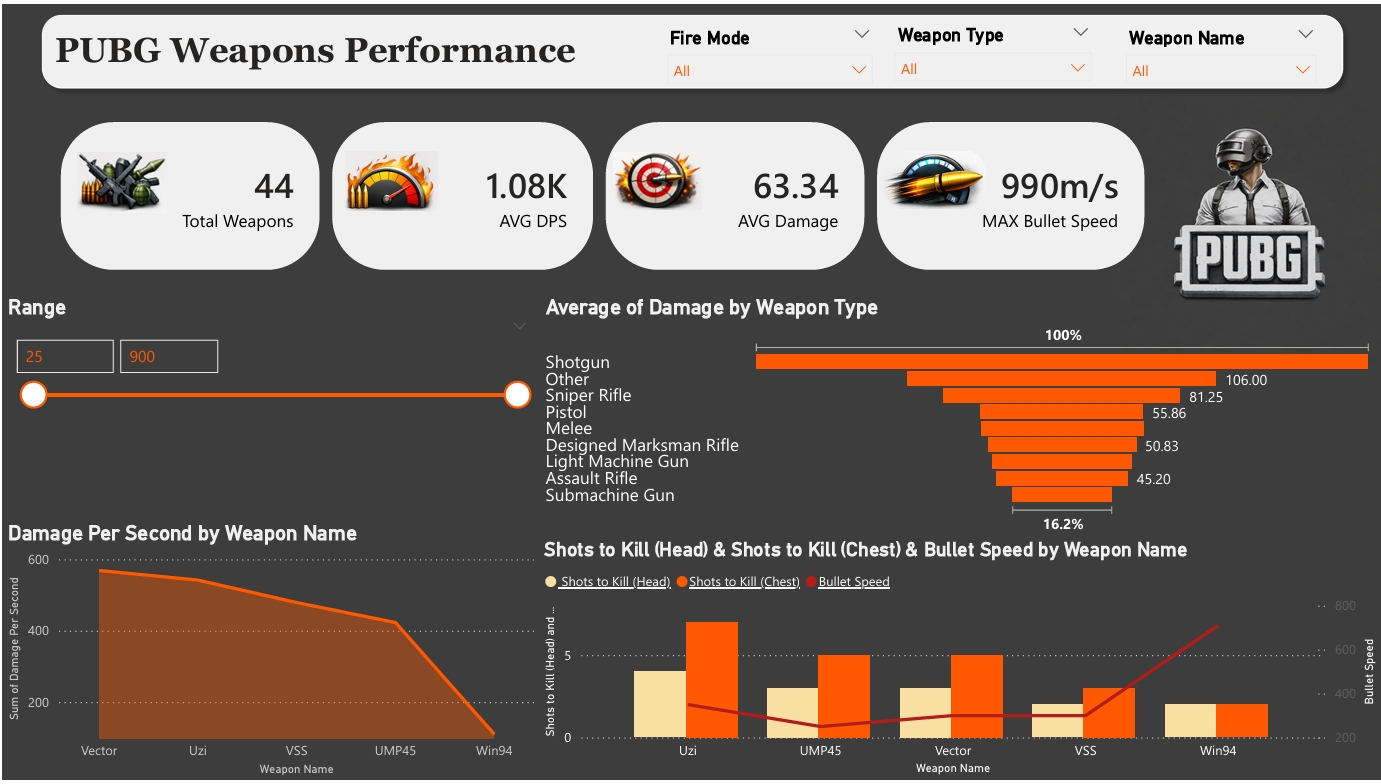

Layout of this report page (visuals, bound fields, positions):
{"tool":"powerbi","page":{"name":"PUBG","canvas":[1280,720],"ordinal":0},"visuals":[{"type":"image","box":[1032.8,71.6,247.8,270.1],"z":0},{"type":"cardVisual","fields":{"Data":["pubg-weapon-stats.Bullet Speed 1"]},"box":[806,103,259.7,149.3],"z":1000},{"type":"shape","box":[26.9,0,1226.9,86.6],"z":2000},{"type":"cardVisual","fields":{"Data":["CountNonNull(pubg-weapon-stats.Weapon Name)"]},"box":[47.8,103,252.2,149.3],"z":3000},{"type":"stackedAreaChart","title":" Damage Per Second by Weapon Name","fields":{"Category":["pubg-weapon-stats.Weapon Name"],"Y":["Sum(pubg-weapon-stats.Damage Per Second)"]},"box":[0,478.9,498.1,241.5],"z":4000},{"type":"lineClusteredColumnComboChart","title":"Shots to Kill (Head)  & Shots to Kill (Chest) &  Bullet Speed by Weapon Name","fields":{"Category":["pubg-weapon-stats.Weapon Name"],"Y":["Sum(pubg-weapon-stats.Shots to Kill (Head))","Sum(pubg-weapon-stats.Shots to Kill (Chest))"],"Y2":["Sum(pubg-weapon-stats.Bullet Speed)"]},"box":[498.1,495.4,782.2,225],"z":5000},{"type":"cardVisual","fields":{"Data":["Avg(pubg-weapon-stats.Damage)"]},"box":[553.7,103,252.2,149.3],"z":6000},{"type":"slicer","fields":{"Values":["pubg-weapon-stats.Weapon Type"]},"box":[817.9,13.4,203,58.2],"z":7000},{"type":"cardVisual","fields":{"Data":["Max(pubg-weapon-stats.Damage Per Second)"]},"box":[300,103,253.7,149.3],"z":8000},{"type":"slicer","fields":{"Values":["pubg-weapon-stats.Fire Mode"]},"box":[607.5,14.9,210.4,56.7],"z":9000},{"type":"slicer","title":"Range","fields":{"Values":["pubg-weapon-stats.Range"]},"box":[0,268.7,498.5,197],"z":10000},{"type":"slicer","fields":{"Values":["pubg-weapon-stats.Weapon Name"]},"box":[1032.8,14.9,197,56.7],"z":11000},{"type":"image","box":[61.2,137.3,98.5,55.2],"z":12000},{"type":"image","box":[817.9,134.3,95.5,56.7],"z":13000},{"type":"image","box":[567.2,134.3,82.1,58.2],"z":14000},{"type":"image","box":[310.4,135.8,101.5,55.2],"z":15000},{"type":"textbox","box":[43.3,19.4,510.4,46.3],"z":16000},{"type":"funnel","fields":{"Category":["pubg-weapon-stats.Weapon Type"],"Y":["Avg(pubg-weapon-stats.Damage)"]},"box":[498.5,268.7,779.1,226.9],"z":17000}]}

Visuals, with their boxes in screenshot pixels (x1, y1, x2, y2), scaled from the page's 1280x720 canvas onto the 1381x784 screenshot:
image: locate(1114, 78, 1380, 372)
cardVisual - pubg-weapon-stats.Bullet Speed 1: locate(870, 112, 1150, 275)
shape: locate(29, 0, 1353, 94)
cardVisual - CountNonNull(pubg-weapon-stats.Weapon Name): locate(52, 112, 324, 275)
" Damage Per Second by Weapon Name" stackedAreaChart: locate(0, 521, 537, 783)
"Shots to Kill (Head)  & Shots to Kill (Chest) &  Bullet Speed by Weapon Name" lineClusteredColumnComboChart: locate(537, 539, 1380, 783)
cardVisual - Avg(pubg-weapon-stats.Damage): locate(597, 112, 869, 275)
slicer - pubg-weapon-stats.Weapon Type: locate(882, 15, 1101, 78)
cardVisual - Max(pubg-weapon-stats.Damage Per Second): locate(324, 112, 597, 275)
slicer - pubg-weapon-stats.Fire Mode: locate(655, 16, 882, 78)
"Range" slicer: locate(0, 293, 538, 507)
slicer - pubg-weapon-stats.Weapon Name: locate(1114, 16, 1327, 78)
image: locate(66, 150, 172, 210)
image: locate(882, 146, 985, 208)
image: locate(612, 146, 701, 210)
image: locate(335, 148, 444, 208)
textbox: locate(47, 21, 597, 72)
funnel - pubg-weapon-stats.Weapon Type x Avg(pubg-weapon-stats.Damage): locate(538, 293, 1378, 540)
